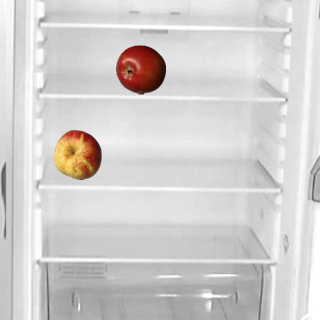Apple Braeburn: (115, 44, 165, 94)
Apple Red Yellow 1: (52, 129, 102, 179)
